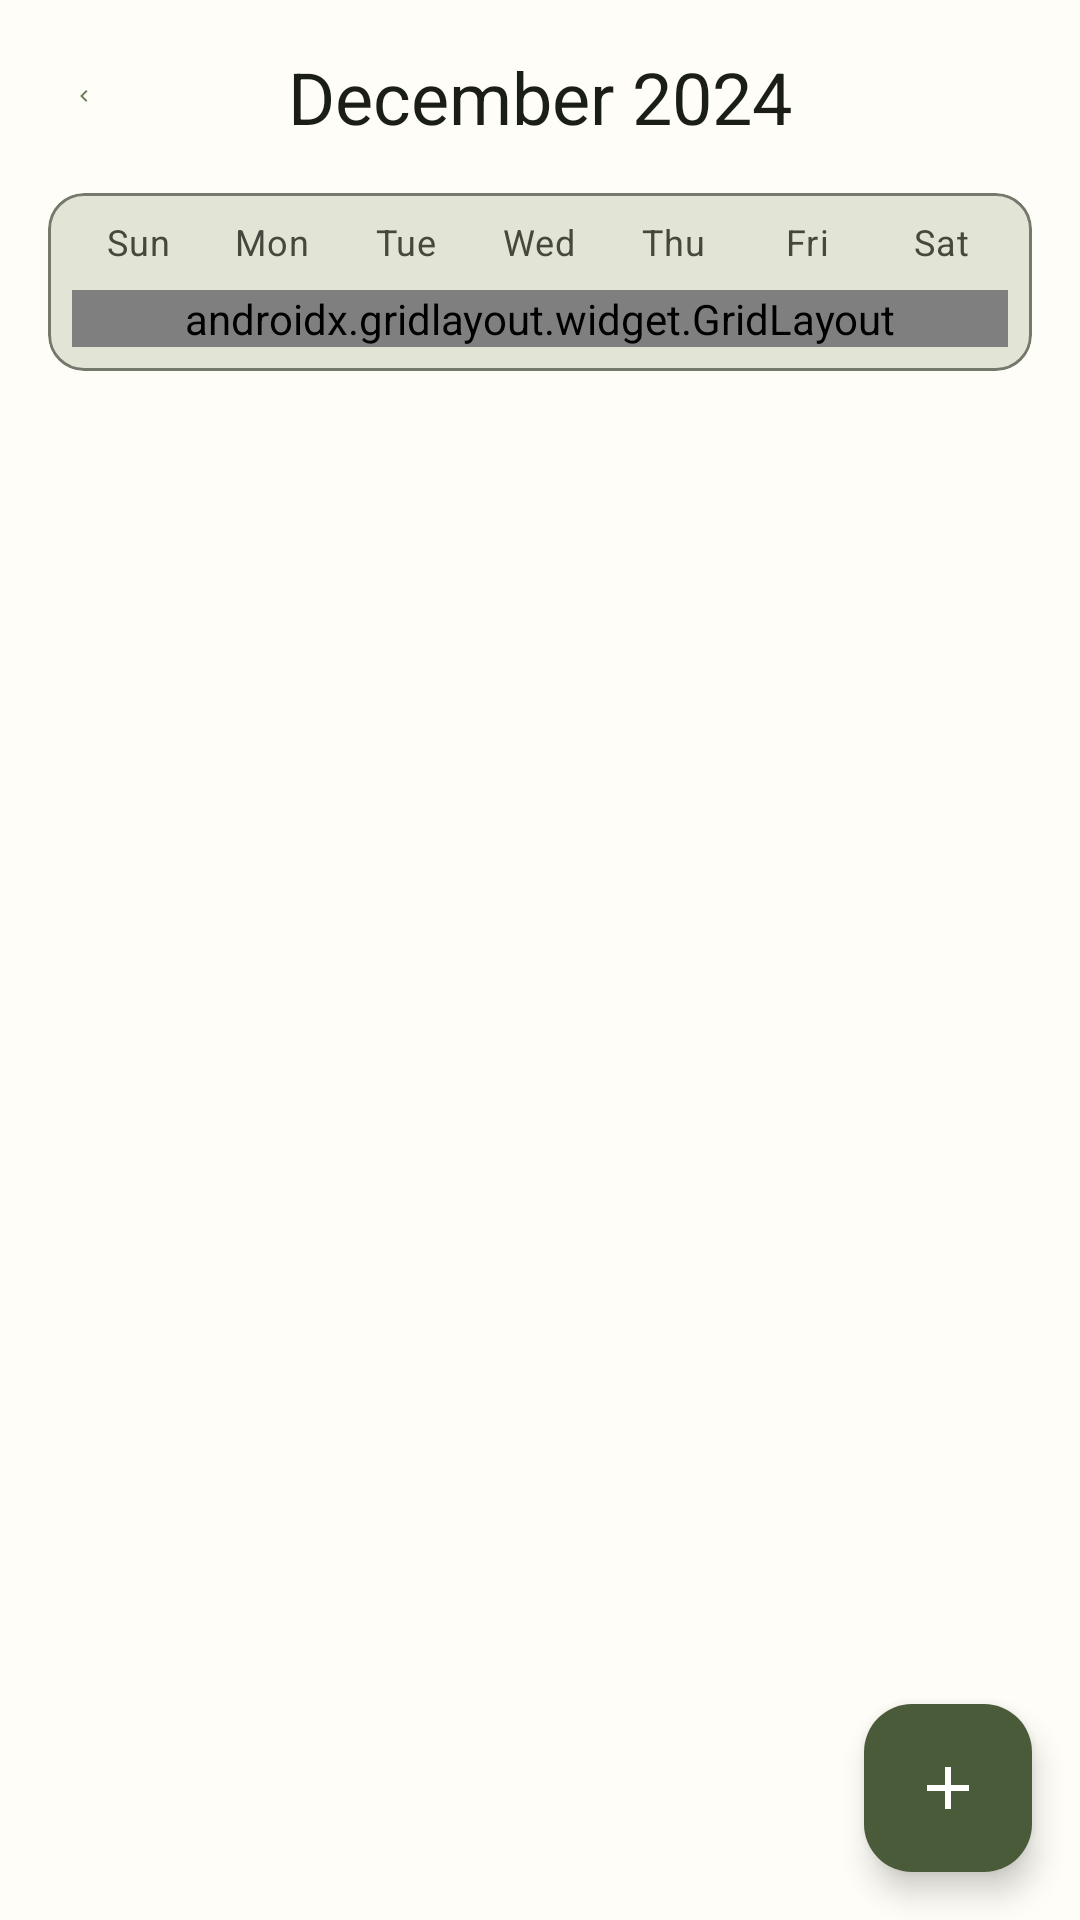

Icon bounding boxes for this 1080px×1920px phone screenshot, format Rect(x1, y1, x2, y2):
Add Event: Rect(864, 1704, 1032, 1872)
